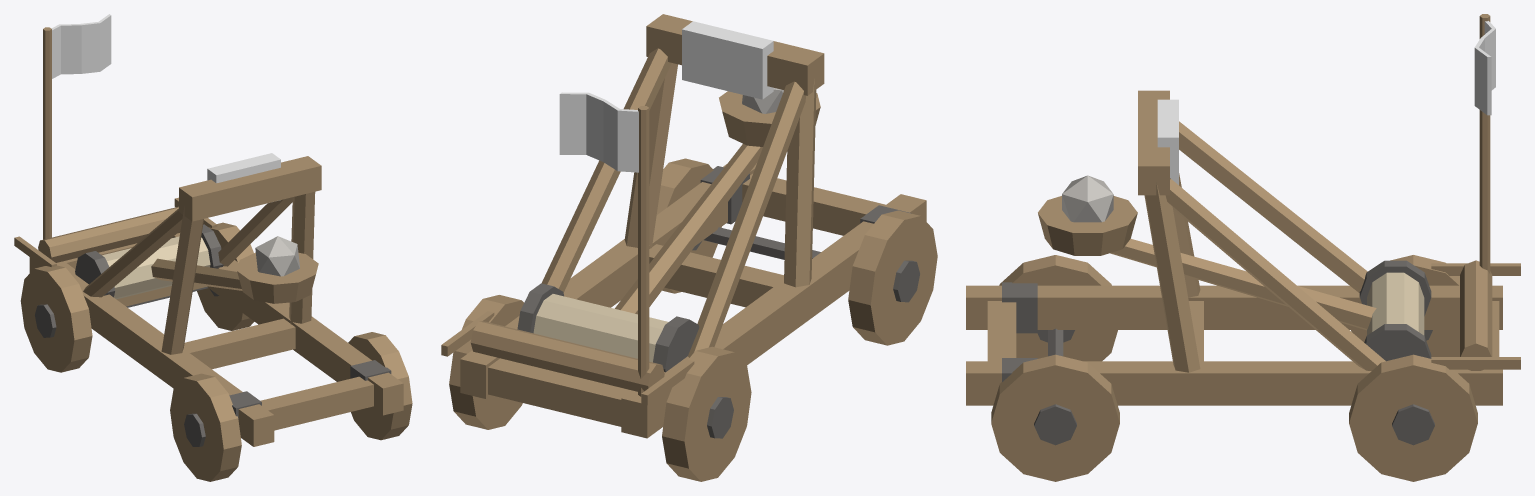
Rendered from civ_unit_catapult.glb.
3 renders of one model, left to right at view 1: azimuth 30°, elevation 25°; view 2: azimuth 150°, elevation 25°; view 3: azimuth 270°, elevation 25°, orthographic. The views are drawn at different scales.
Parts seen in each view (by area): view 1: civ_unit_catapult; view 2: civ_unit_catapult; view 3: civ_unit_catapult.
Part boxes in pixels (<box>): civ_unit_catapult: <box>14,14,412,481</box>; civ_unit_catapult: <box>441,14,937,481</box>; civ_unit_catapult: <box>966,14,1520,481</box>.
Size of the model in its own units: 1.52 by 2.3 by 3.1.
